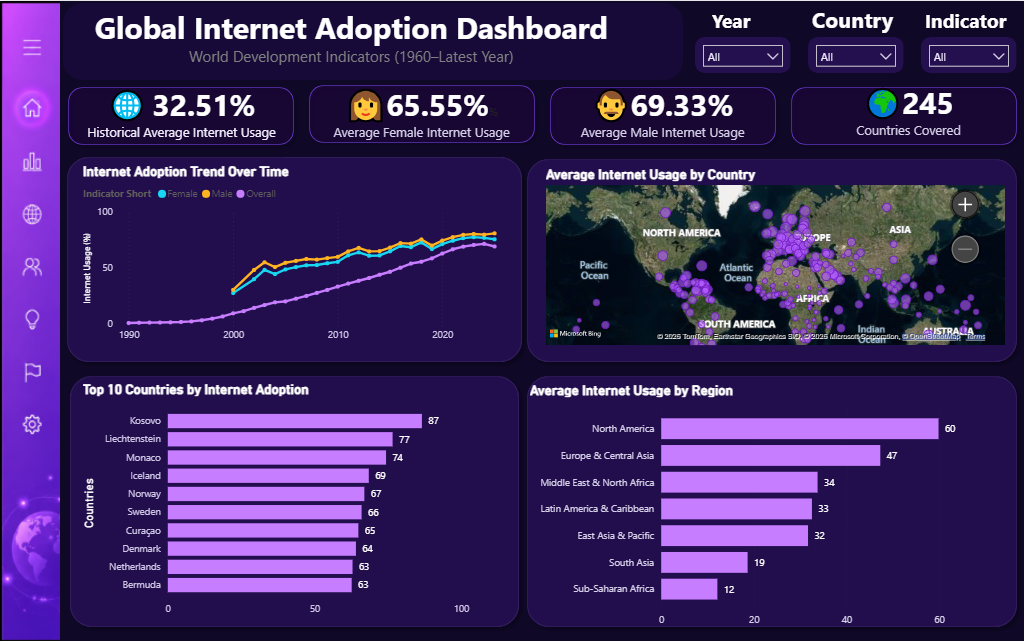

This screenshot's page, from the dashboard's own definition file:
{"tool":"powerbi","page":{"name":"Page 1","canvas":[1280,800],"ordinal":0},"visuals":[{"type":"shape","box":[650,460,630,331.2],"z":0},{"type":"shape","box":[78.8,460,578.8,331.2],"z":1000},{"type":"shape","box":[650,188.8,630,271.2],"z":2000},{"type":"shape","box":[75,186.2,586.2,273.8],"z":3000},{"type":"shape","box":[78.4,2.6,774.9,96.4],"z":4000},{"type":"textbox","box":[61.7,2.6,755.7,93.8],"z":5000},{"type":"shape","box":[1010.1,45,119.5,45],"z":6000},{"type":"shape","box":[1151.5,45,119.5,45],"z":7000},{"type":"shape","box":[868.8,45,119.5,45],"z":8000},{"type":"textbox","box":[885.5,2.6,83.5,48.8],"z":9000},{"type":"textbox","box":[1010.1,0,129.8,50.1],"z":10000},{"type":"textbox","box":[1151.5,2.6,119.5,47.6],"z":11000},{"type":"slicer","fields":{"Values":["WDICountry.Table Name"]},"box":[1010.1,45,119.5,45],"z":12000},{"type":"slicer","fields":{"Values":["WDICSV.Indicator Name"]},"box":[1151.5,45,119.5,45],"z":13000},{"type":"slicer","fields":{"Values":["WDICSV.Year"]},"box":[868.8,45,119.5,45],"z":14000},{"type":"image","box":[0,0,75,800],"z":15000},{"type":"shape","box":[76.2,98.8,300,90],"z":16000},{"type":"shape","box":[377.5,96.2,300,90],"z":17000},{"type":"shape","box":[678.8,98.8,300,90],"z":18000},{"type":"shape","box":[980,98.8,300,90],"z":19000},{"type":"textbox","box":[98.8,98.8,256.2,87.5],"z":20000},{"type":"textbox","box":[392.5,98.8,268.8,90],"z":21000},{"type":"textbox","box":[696.2,98.8,263.8,90],"z":22000},{"type":"textbox","box":[1010,96.2,251.2,90],"z":23000},{"type":"lineChart","title":"Internet Adoption Trend Over Time","fields":{"Category":["WDICSV.Year"],"Y":["Avg(WDICSV.Value)"],"Series":["WDICSV.Indicator Short"]},"box":[98.8,202.5,537.5,232.5],"z":24000},{"type":"map","title":"Average Internet Usage by Country","fields":{"Category":["WDICSV.Country Name"],"Size":["WDICSV.Average Internet Usage"]},"box":[677.5,206.2,583.8,228.8],"z":25000},{"type":"clusteredBarChart","title":"Top 10 Countries by Internet Adoption","fields":{"Y":["WDICSV.Average Internet Usage"],"Category":["WDICountry.Table Name"]},"box":[98.8,475,543.8,302.5],"z":26000},{"type":"clusteredBarChart","title":"Average Internet Usage by Region","fields":{"Y":["WDICSV.Average Internet Usage by Region"],"Category":["WDICountry.Region"]},"box":[657.5,476.2,622.5,315],"z":27000}]}

Visuals, with their boxes on the page's 1280x800 design canvas (x1, y1, x2, y2). These are canvas units, not pixel positions in the 1024x641 screenshot, which may show the page scaled, cropped or inside an application window:
shape: Rect(650, 460, 1280, 791)
shape: Rect(79, 460, 658, 791)
shape: Rect(650, 189, 1280, 460)
shape: Rect(75, 186, 661, 460)
shape: Rect(78, 3, 853, 99)
textbox: Rect(62, 3, 817, 96)
shape: Rect(1010, 45, 1130, 90)
shape: Rect(1152, 45, 1271, 90)
shape: Rect(869, 45, 988, 90)
textbox: Rect(886, 3, 969, 51)
textbox: Rect(1010, 0, 1140, 50)
textbox: Rect(1152, 3, 1271, 50)
slicer - WDICountry.Table Name: Rect(1010, 45, 1130, 90)
slicer - WDICSV.Indicator Name: Rect(1152, 45, 1271, 90)
slicer - WDICSV.Year: Rect(869, 45, 988, 90)
image: Rect(0, 0, 75, 800)
shape: Rect(76, 99, 376, 189)
shape: Rect(378, 96, 678, 186)
shape: Rect(679, 99, 979, 189)
shape: Rect(980, 99, 1280, 189)
textbox: Rect(99, 99, 355, 186)
textbox: Rect(392, 99, 661, 189)
textbox: Rect(696, 99, 960, 189)
textbox: Rect(1010, 96, 1261, 186)
"Internet Adoption Trend Over Time" lineChart: Rect(99, 202, 636, 435)
"Average Internet Usage by Country" map: Rect(678, 206, 1261, 435)
"Top 10 Countries by Internet Adoption" clusteredBarChart: Rect(99, 475, 643, 778)
"Average Internet Usage by Region" clusteredBarChart: Rect(658, 476, 1280, 791)
